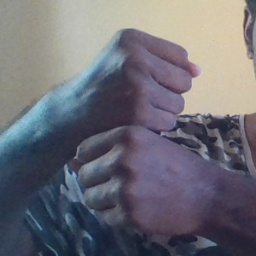G: (69, 23, 205, 236)
